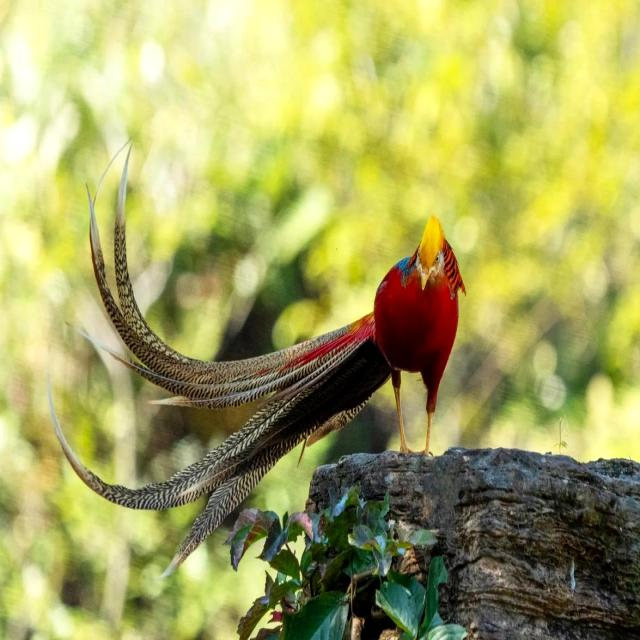Chrysolophus pictus feather: (47, 147, 394, 581)
